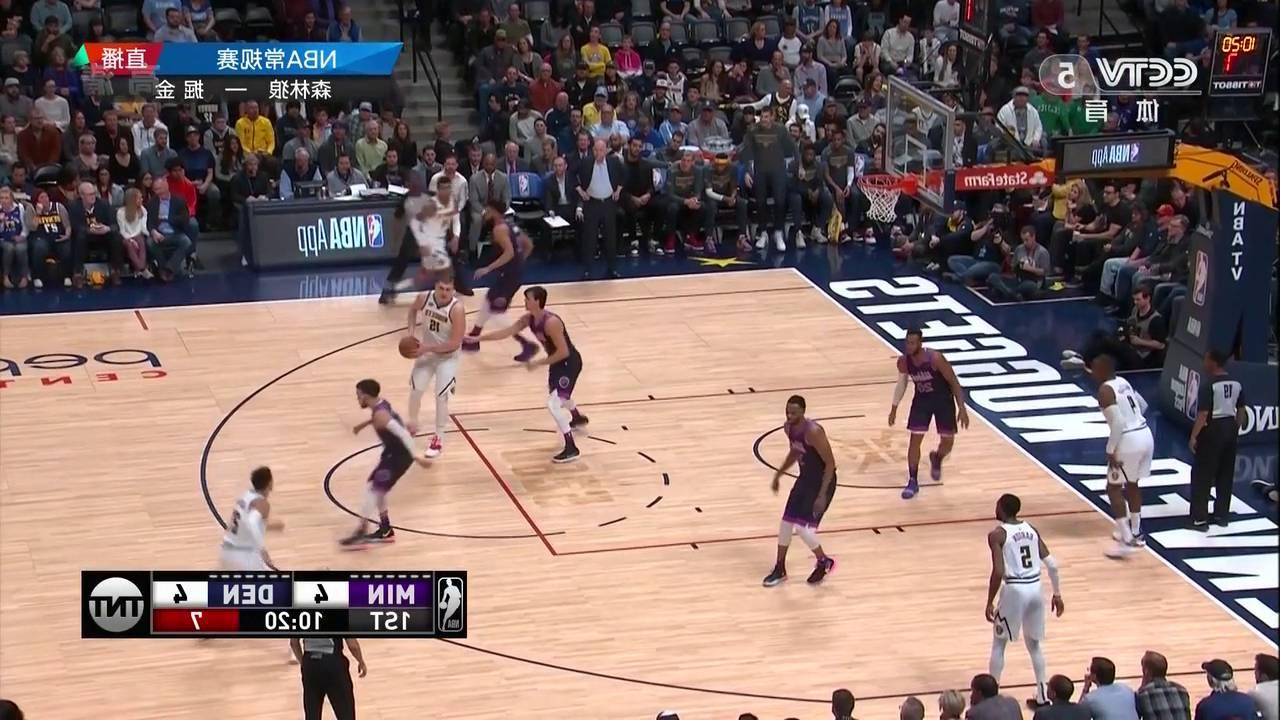basketball: (398, 334, 421, 360)
